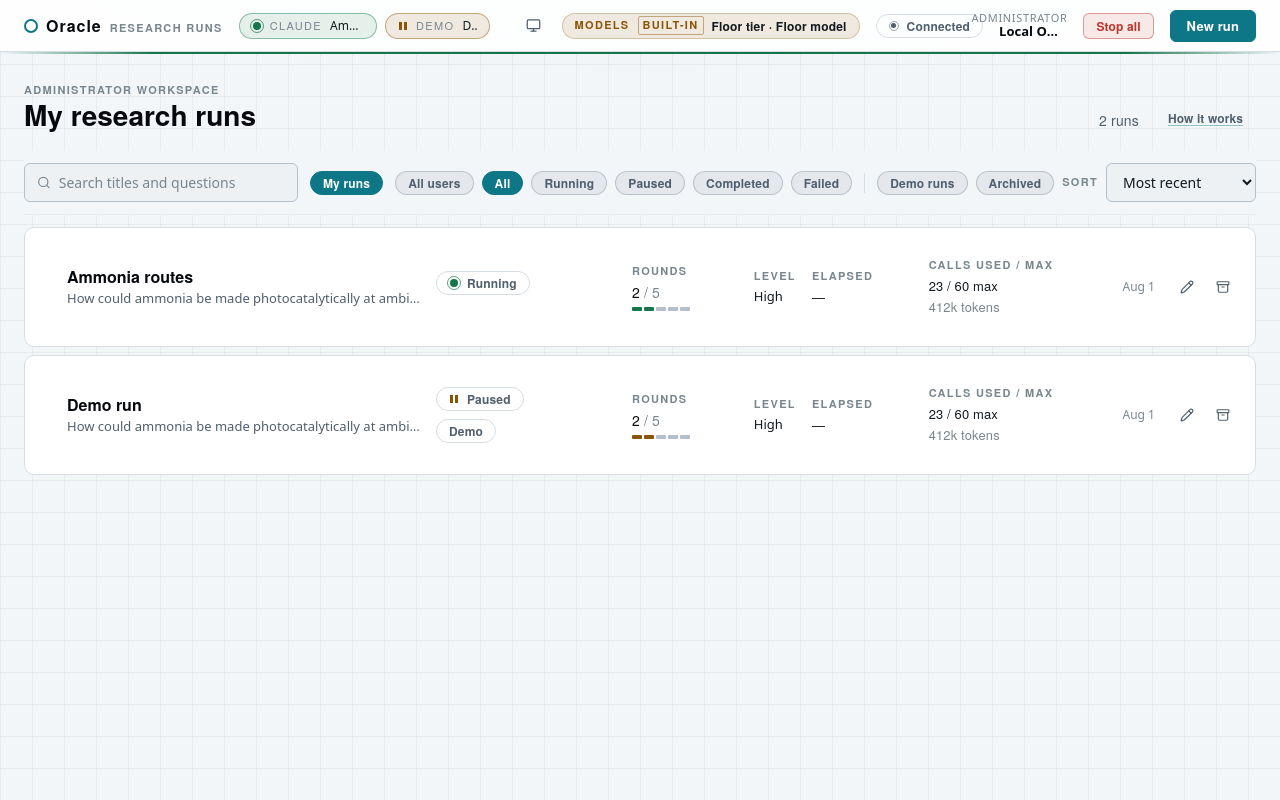
Test: stop all › names the runs it would stop before doing it
What coordinates should you click on to do the following:
click the button "Stop all"
I would click on:
 (1118, 26)
Its box is left=1083, top=12, right=1154, bottom=38.
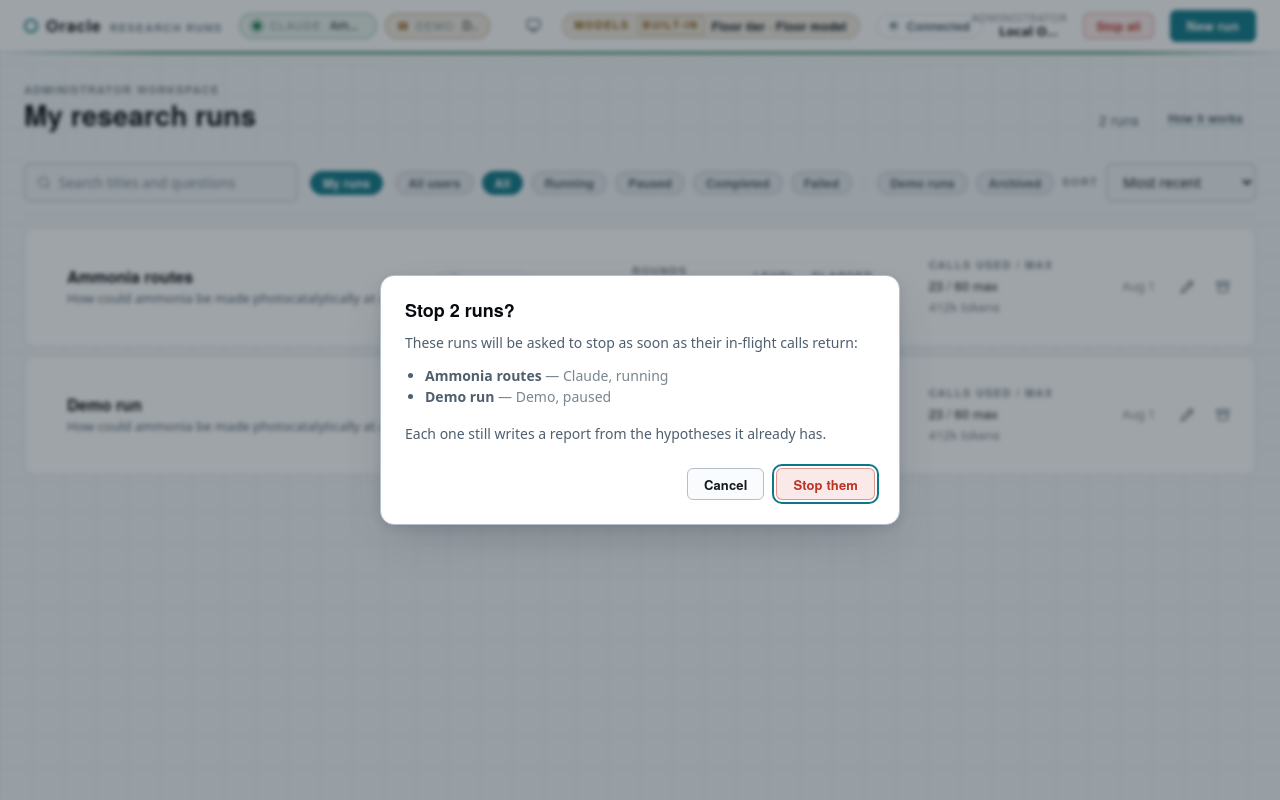
Check: the dialog shows "Stop 2 runs?", box left=405, top=297, right=515, bottom=323
Check: the text "Ammonia routes" is shown, box left=425, top=366, right=542, bottom=385
Check: the text "Demo run" is shown, box left=425, top=387, right=494, bottom=406
What coordinates should you click on to do the following:
click the button "Stop them"
I would click on:
 (826, 484)
Its box is left=776, top=468, right=875, bottom=500.
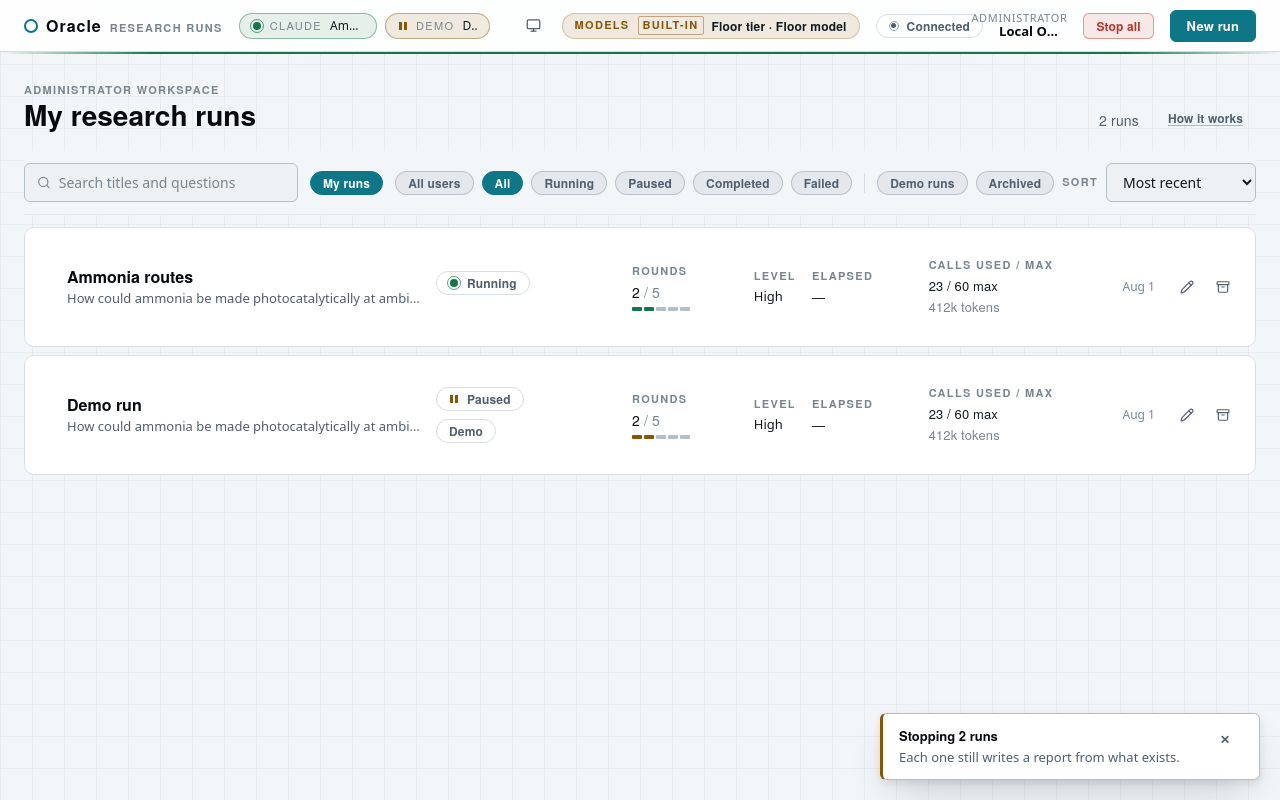
Check: the message shows "Stopping 2 runs", box left=899, top=726, right=998, bottom=745
